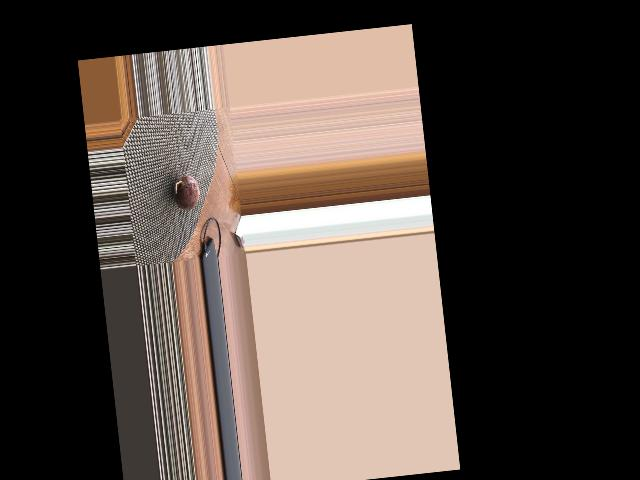beet: (171, 174, 201, 211)
